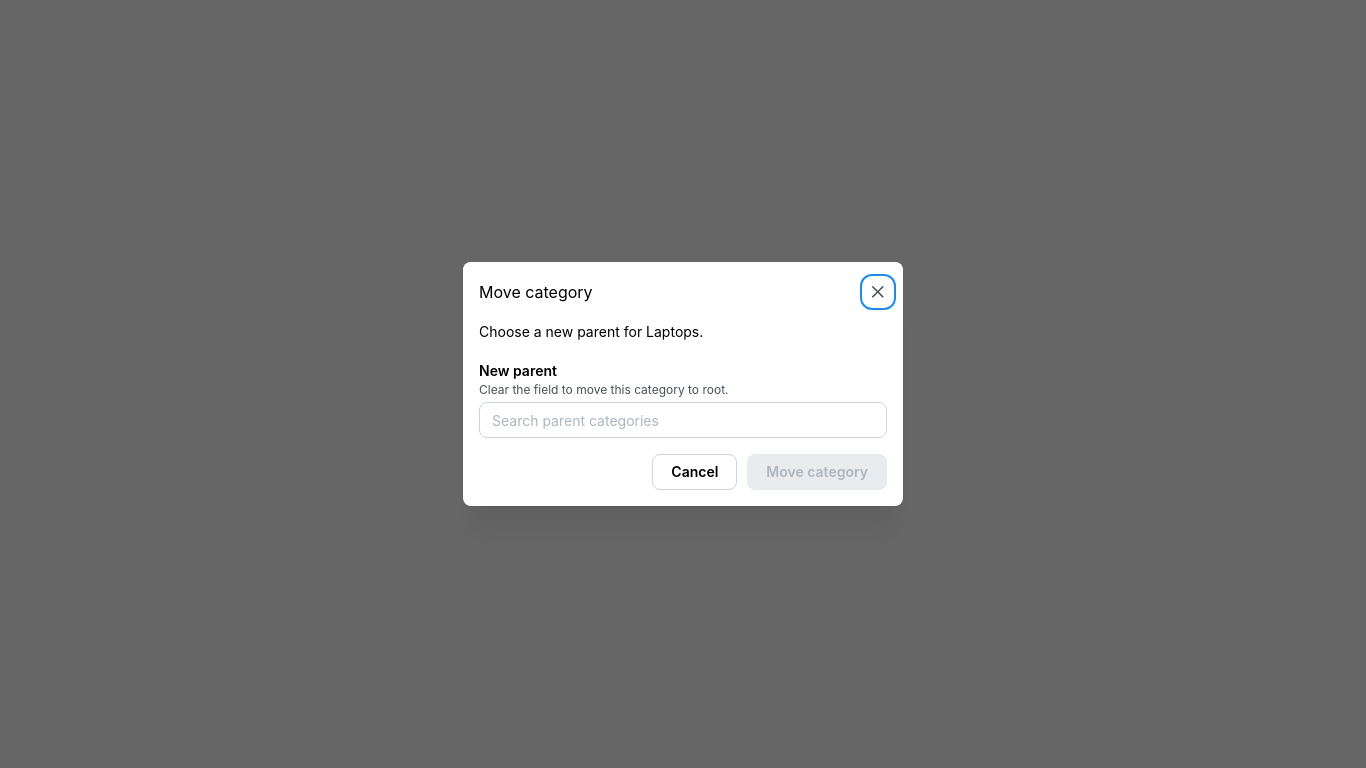
CategoryMoveDialogView › prevents submitting when the excluded category is stale
Click the dropdown labelled "New parent". click: coordinates (683, 420)
box: [479,402,887,438]
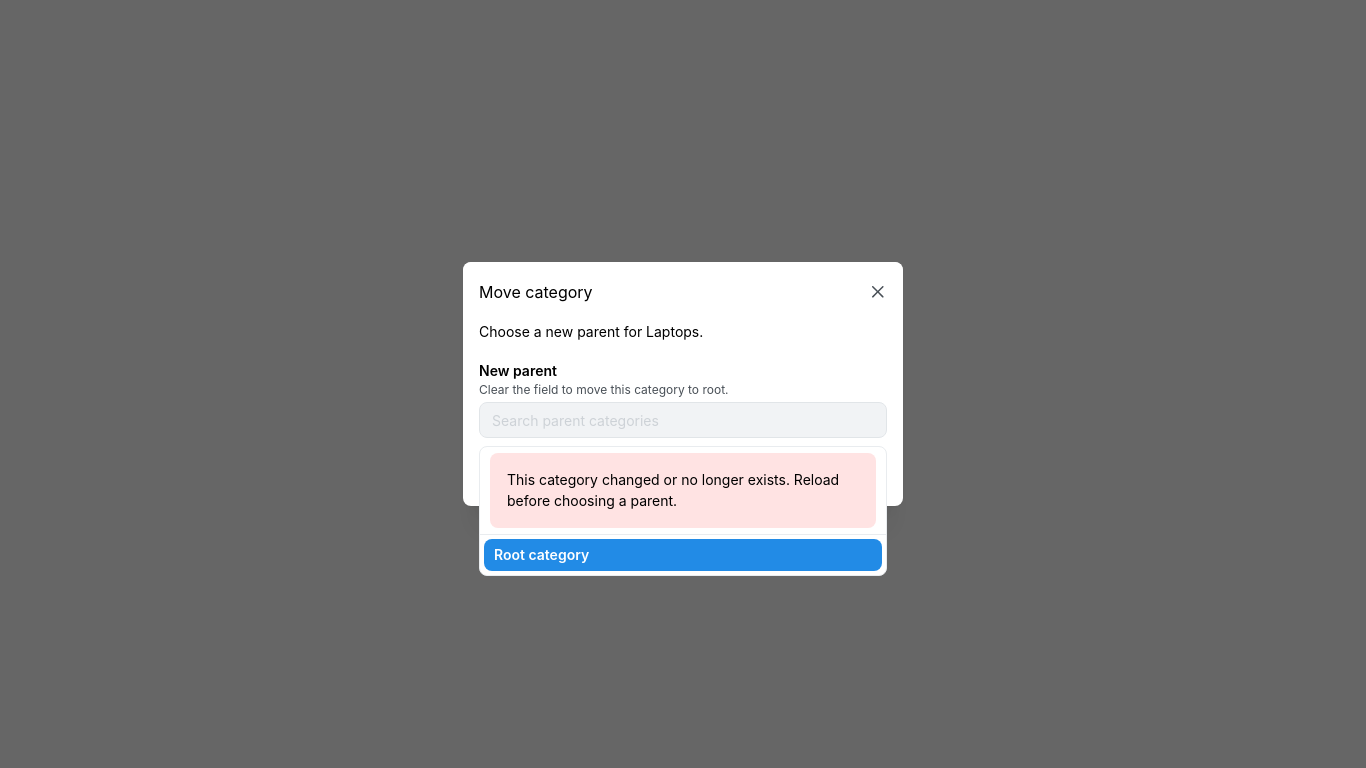
Expected: the button "Move category" is disabled, [747,454,887,490]
Now the text "category changed or no longer exists" is shown, box [507,471,839,506]
